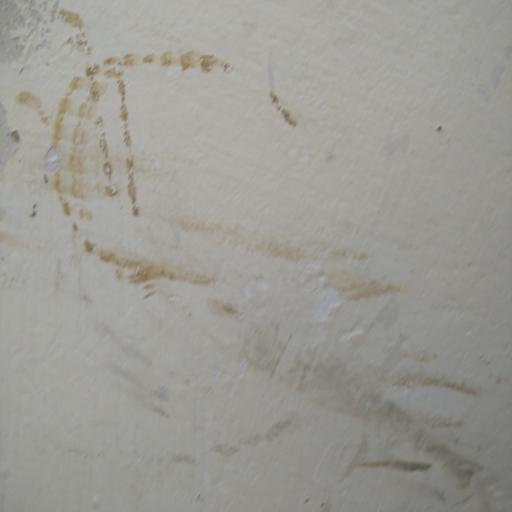stain: (9, 5, 496, 489)
